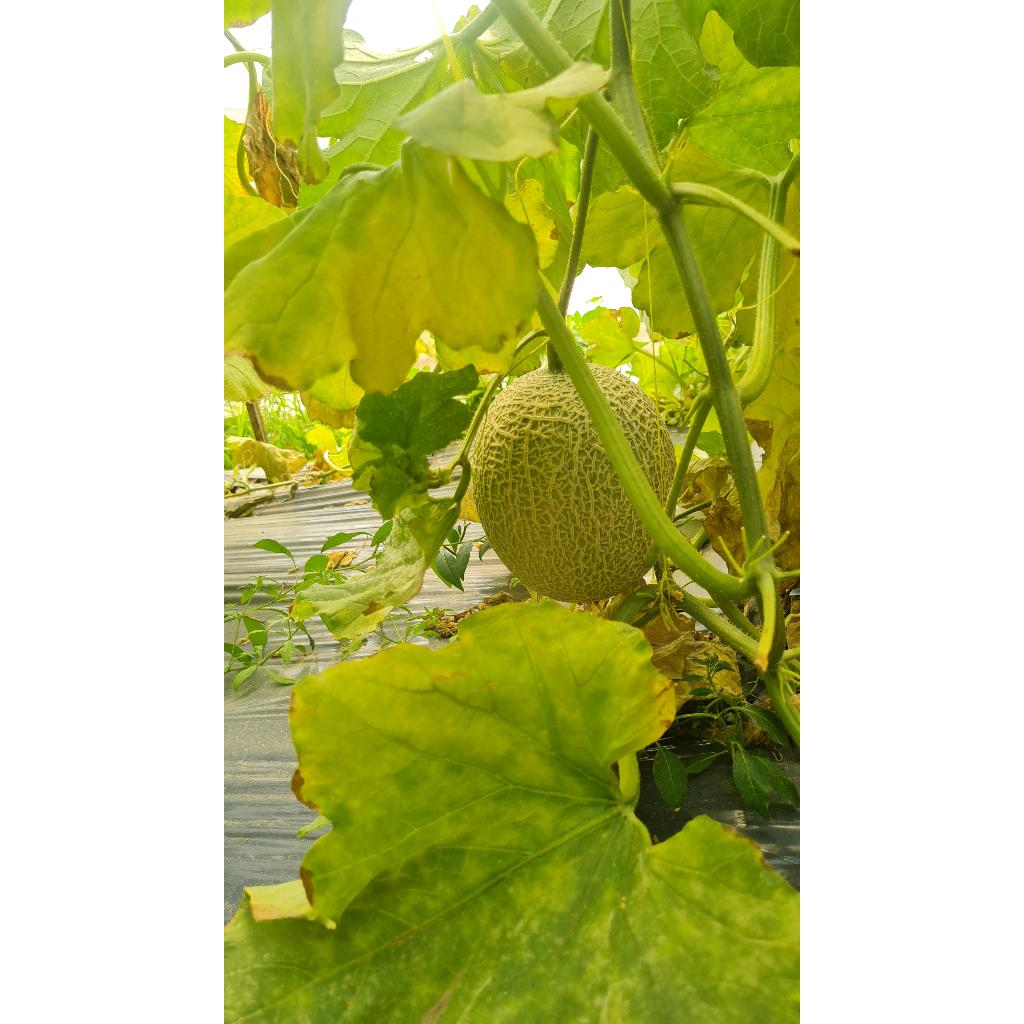melon: (472, 368, 650, 602), (590, 364, 676, 498)
